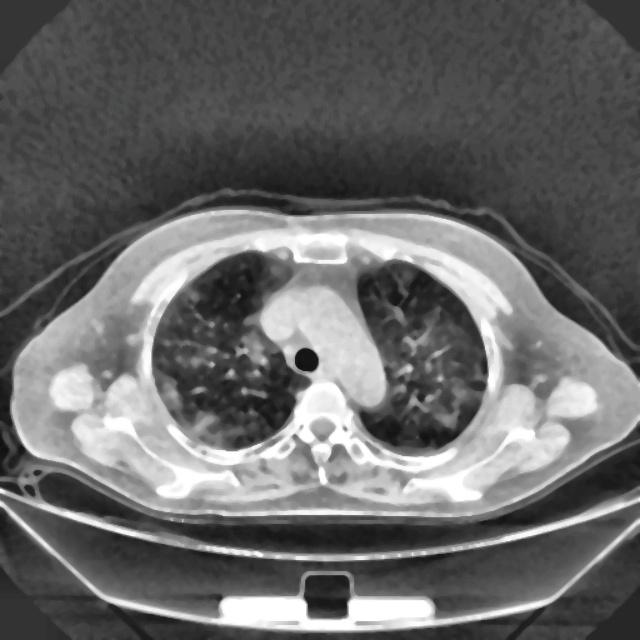covid: (7, 195, 638, 527)
